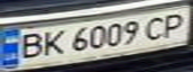0: (103, 20, 127, 48), (87, 22, 109, 51)
6: (66, 25, 90, 53)
9: (121, 17, 145, 45)
B: (12, 29, 48, 61)
C: (139, 12, 172, 42)
K: (36, 27, 69, 57)
P: (154, 10, 193, 39)
